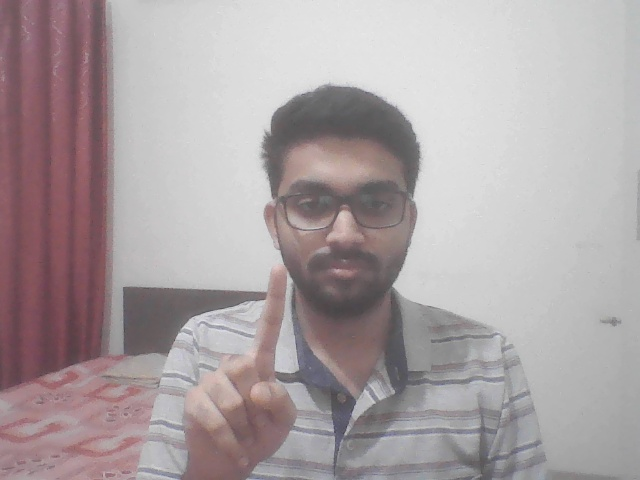where: (172, 251, 309, 480)
